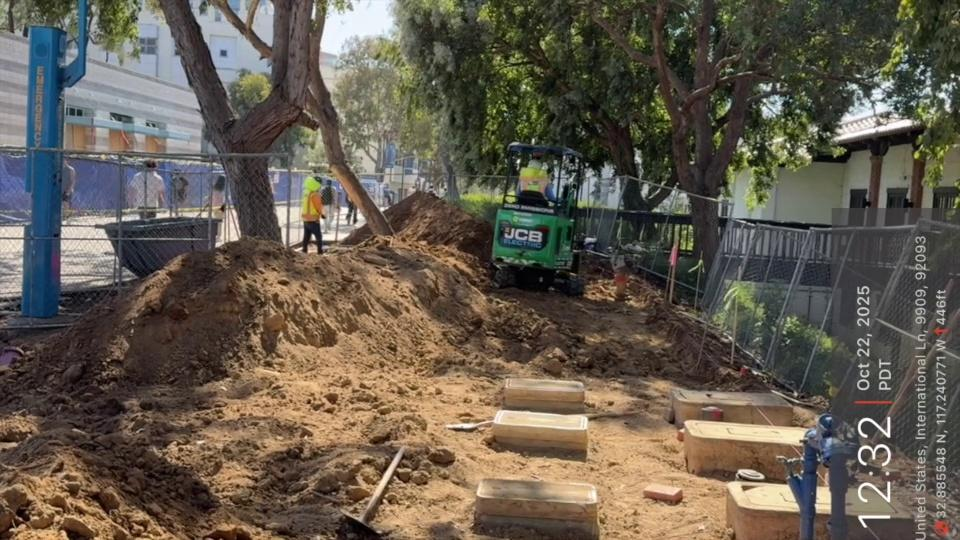Exacavator: (487, 139, 588, 296)
